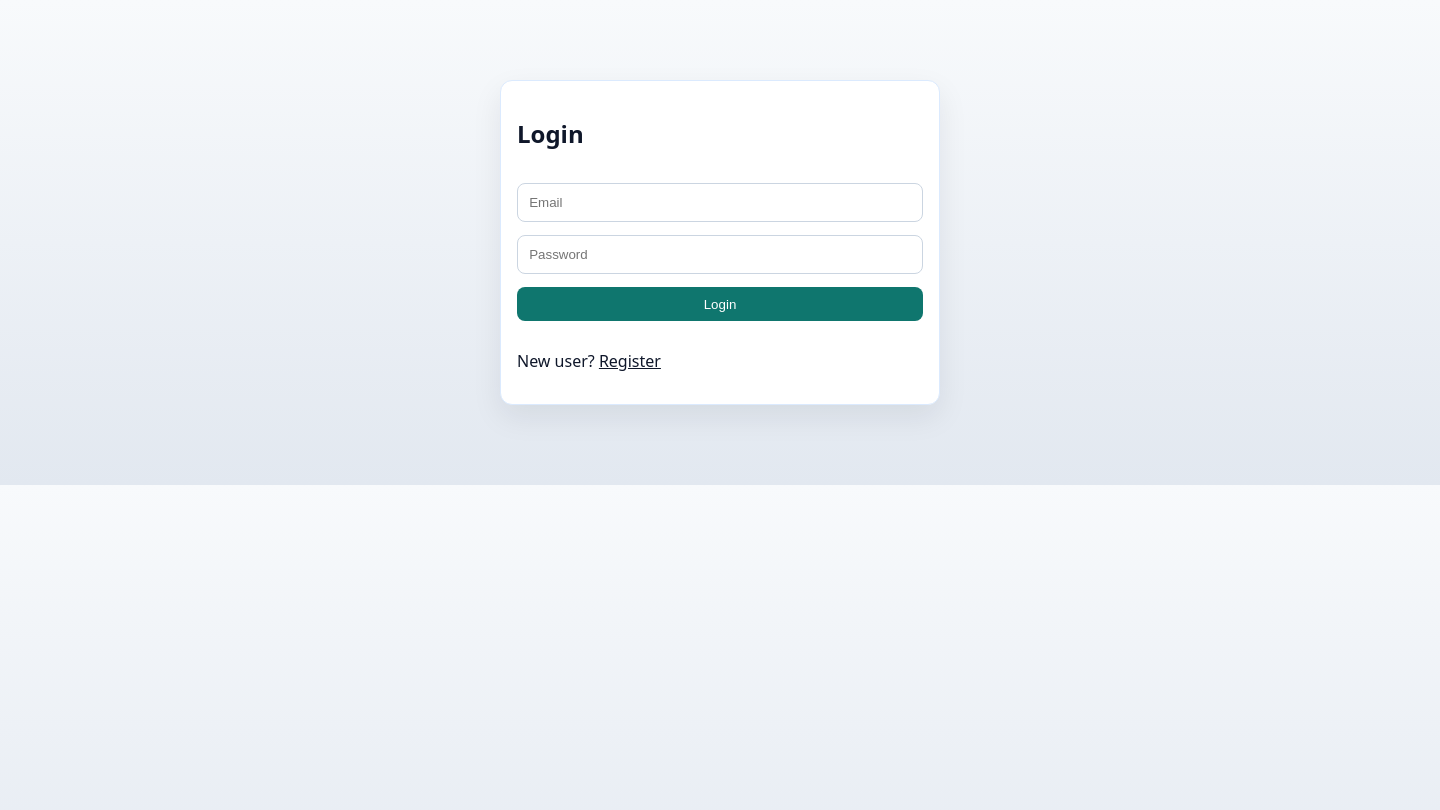
Scenario: Login page › empty fields show validation error
Click the button "Login".
click(720, 304)  # box [517,287,923,321]
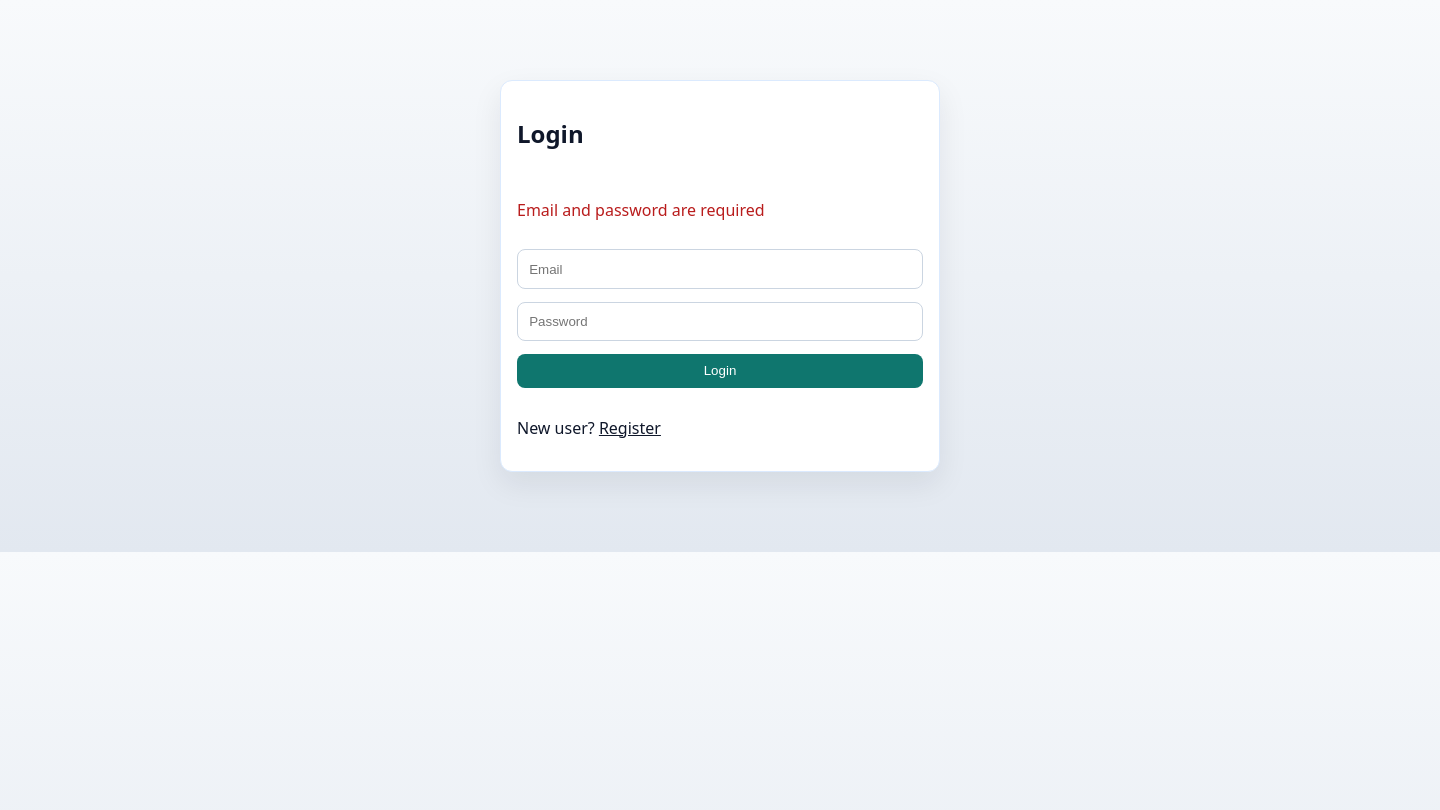
expect the text "Email and password are required" is shown: met, box [517,199,765,221]
